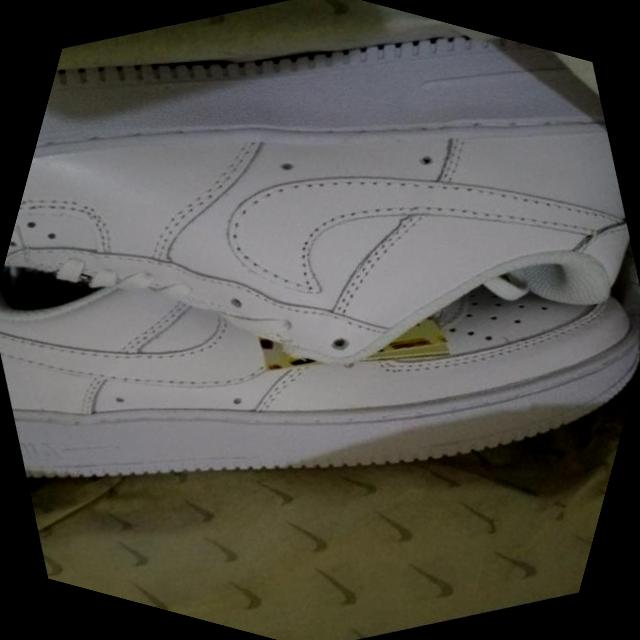nike_fake_airforce: (0, 21, 640, 640), (0, 0, 640, 582)
